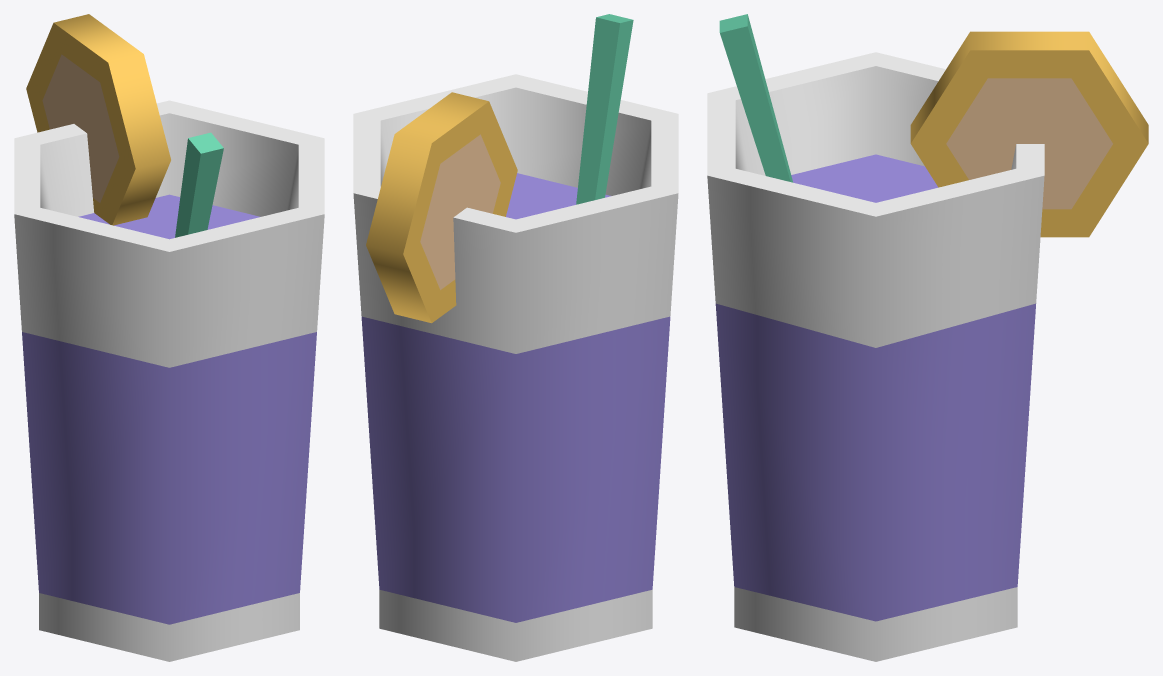
The model's file is limonada.glb.
3 views of the same model, side by side, from view 1: azimuth 30°, elevation 25°; view 2: azimuth 150°, elevation 25°; view 3: azimuth 270°, elevation 25° (orthographic). The views are drawn at different scales.
Visible parts, largest first — view 1: sodaGlass, lemon, straw; view 2: sodaGlass, lemon, straw; view 3: sodaGlass, lemon, straw.
Part boxes in pixels (x1,y1,x2,y2): sodaGlass: (14,100,324,661); lemon: (26,14,170,225); straw: (175,132,223,237); sodaGlass: (353,74,678,661); lemon: (366,92,517,323); straw: (576,14,633,204); sodaGlass: (707,52,1044,661); lemon: (910,31,1148,237); straw: (719,14,793,182).
Size of the model in its own units: 0.2618 by 0.4134 by 0.2967.
